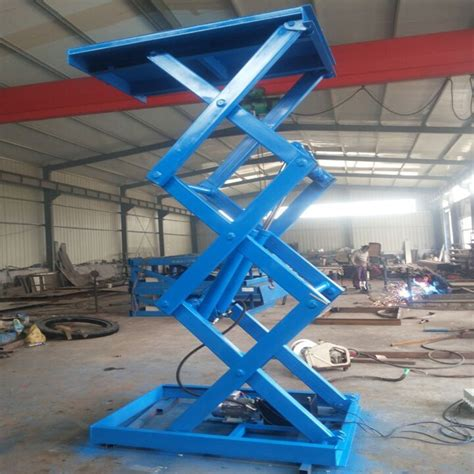Scissor Lift: (64, 2, 360, 474)
